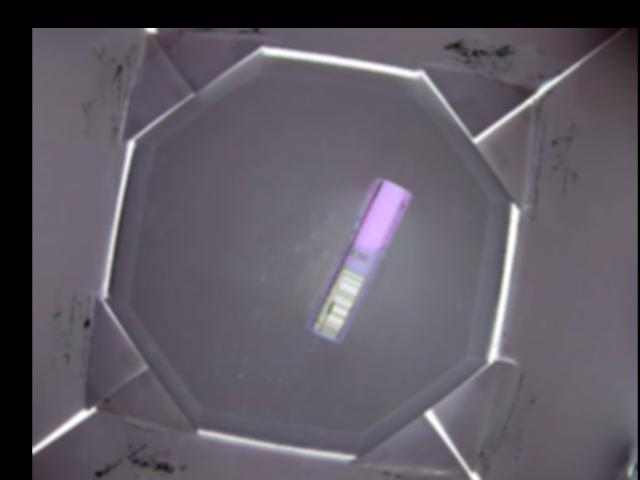Bottle: (306, 178, 415, 344)
